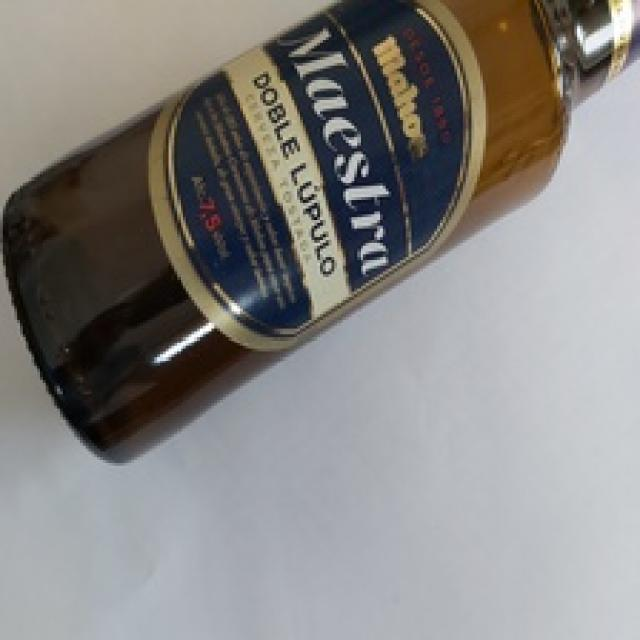garbage: (21, 6, 624, 446)
